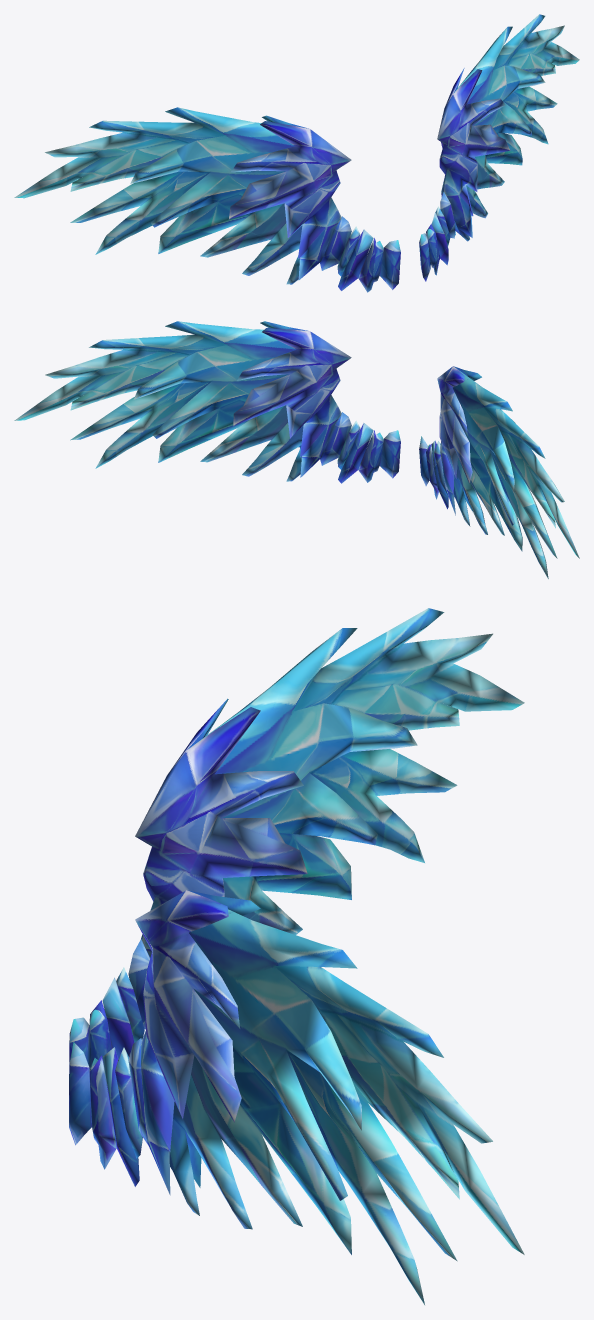
Rendered from BodyBack_0015.FBX.
3 renders of one model, top to bottom at view 1: azimuth 30°, elevation 25°; view 2: azimuth 150°, elevation 25°; view 3: azimuth 270°, elevation 25°, orthographic. The views are drawn at different scales.
Parts seen in each view (by area): view 1: BodyBack_0015; view 2: BodyBack_0015; view 3: BodyBack_0015.
Part boxes in pixels (left/top/right/bottom): BodyBack_0015: left=14, top=14, right=579, bottom=292; BodyBack_0015: left=14, top=321, right=579, bottom=578; BodyBack_0015: left=69, top=608, right=524, bottom=1304.
Size of the model in its own units: 2.79 by 0.8188 by 0.9745.
